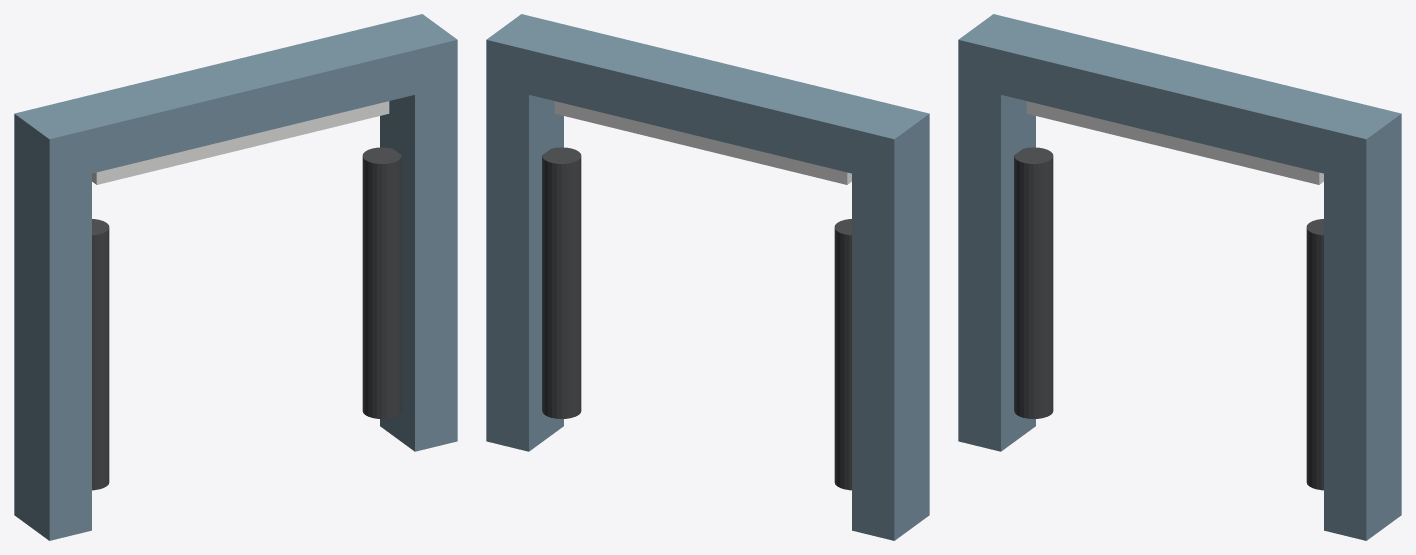
Rendered from road-car-showroom-lineup-car-wash-arch-854f44a2__15149.glb.
3 renders of one model, left to right at view 1: azimuth 30°, elevation 25°; view 2: azimuth 150°, elevation 25°; view 3: azimuth 330°, elevation 25°, orthographic.
Parts seen in each view (by area): view 1: car-wash-arch; view 2: car-wash-arch; view 3: car-wash-arch.
Part boxes in pixels (bbox=[...]): car-wash-arch: bbox=[14, 14, 457, 540]; car-wash-arch: bbox=[486, 14, 929, 540]; car-wash-arch: bbox=[958, 14, 1401, 540].
Bounding box in the file's own units: 3.35 × 3.15 × 0.5001.
